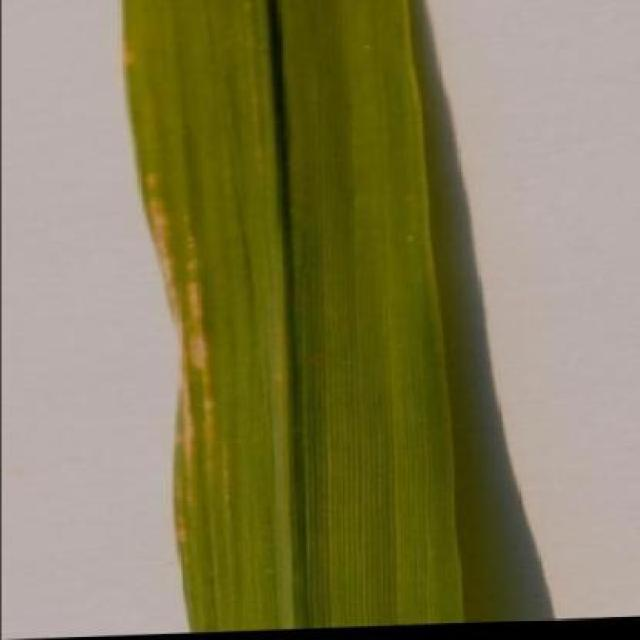Brown_Spot: (113, 123, 272, 588)
